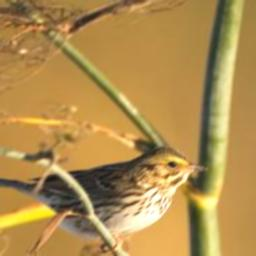Sparrow: (0, 143, 208, 256)
